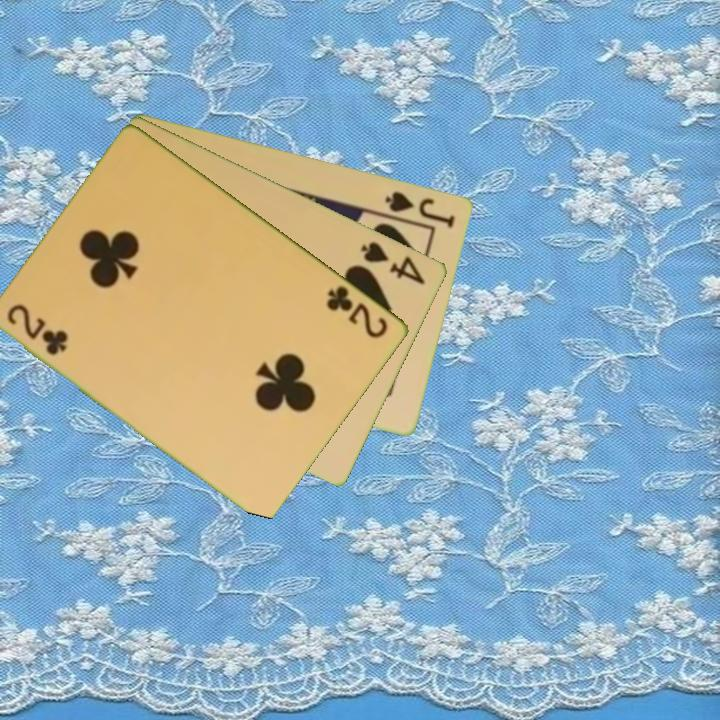2c: (323, 282, 392, 341), (4, 300, 71, 358)
4s: (357, 238, 429, 288)
Js: (382, 187, 459, 231)
